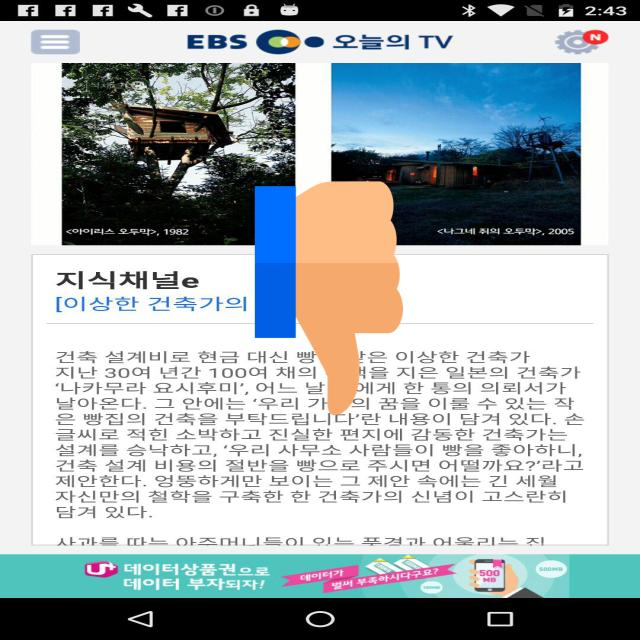obstruction: (255, 176, 403, 421)
